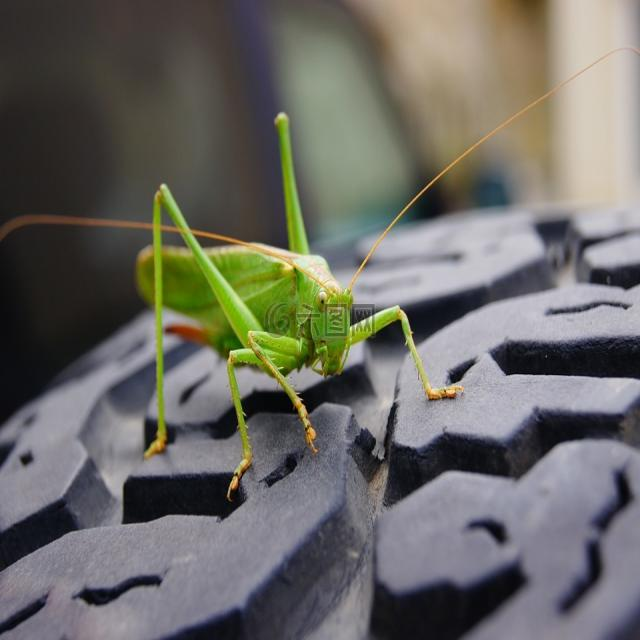ZhaMeng: (109, 82, 466, 464)
